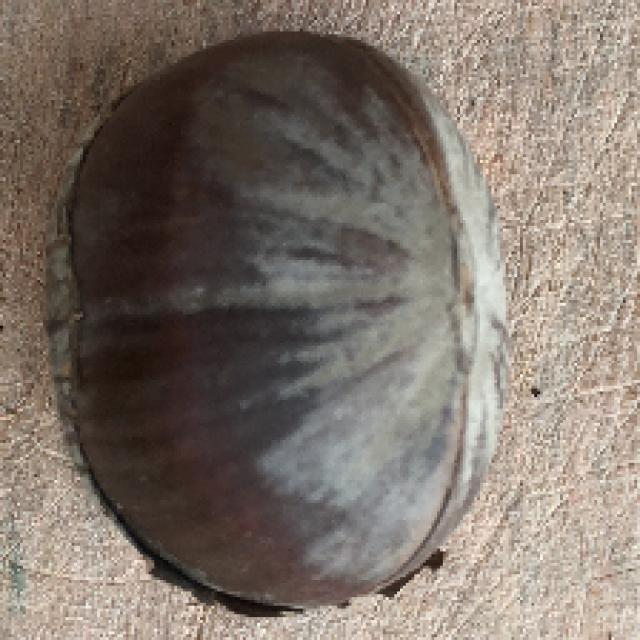damagedHazelnut: (37, 27, 516, 604)
